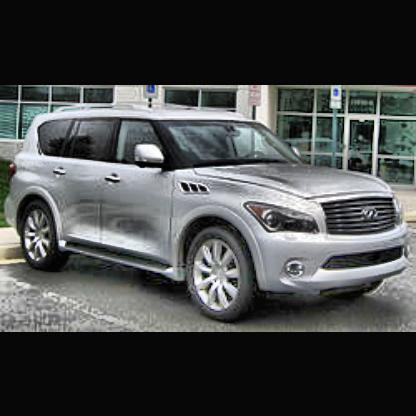Infiniti QX56 SUV 2011: (6, 100, 415, 324)
